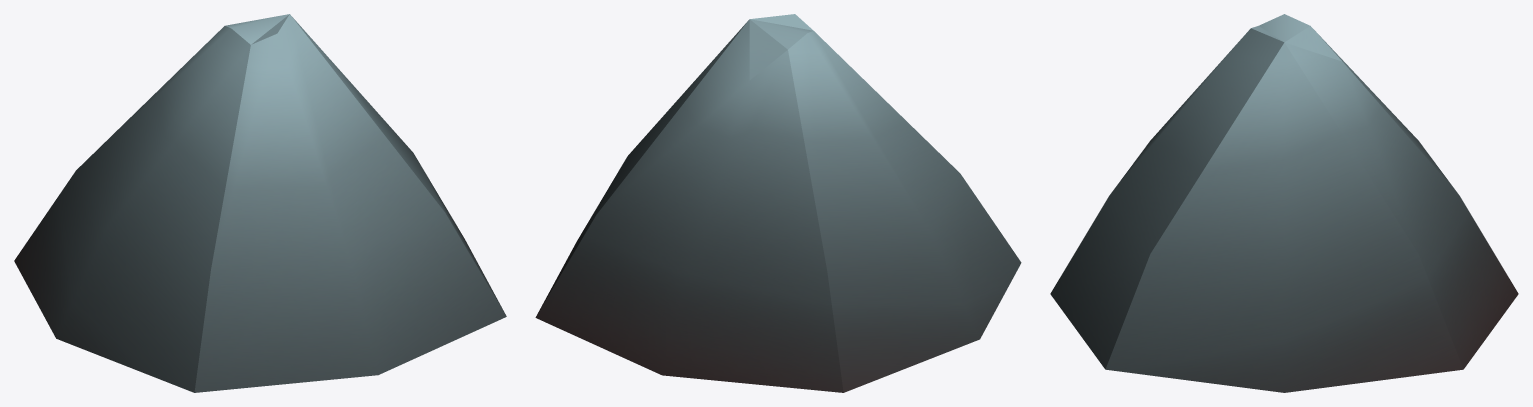
The model's file is SM_Env_Mountain_01.fbx.
3 views of the same model, side by side, from view 1: azimuth 30°, elevation 25°; view 2: azimuth 150°, elevation 25°; view 3: azimuth 270°, elevation 25° (orthographic).
Parts seen in each view (by area): view 1: SM_Env_Mountain_01; view 2: SM_Env_Mountain_01; view 3: SM_Env_Mountain_01.
Part boxes in pixels (x1,y1,x2,y2): SM_Env_Mountain_01: (14,14,506,392); SM_Env_Mountain_01: (535,14,1021,392); SM_Env_Mountain_01: (1050,14,1518,392).
Bounding box in the file's own units: 5395 × 3377 × 5395.
